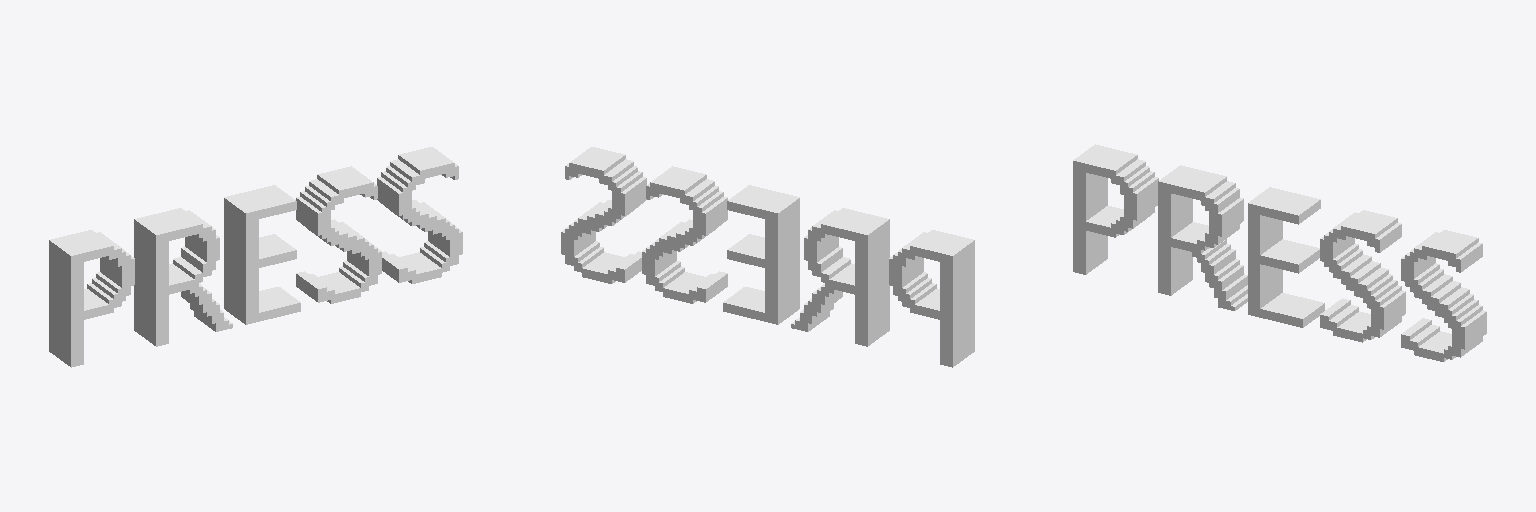
Rendered from PRESS.obj.
3 renders of one model, left to right at view 1: azimuth 30°, elevation 25°; view 2: azimuth 150°, elevation 25°; view 3: azimuth 330°, elevation 25°, orthographic.
Size of the model in its own units: 9.2 by 2.5 by 0.9.